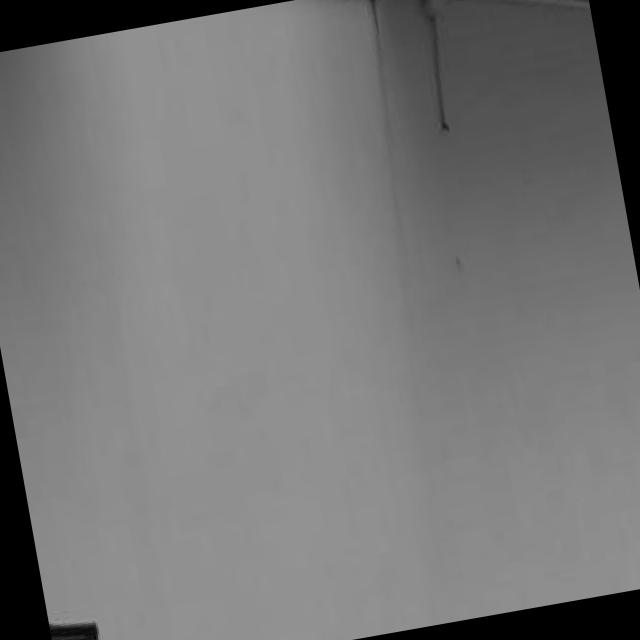Guns: (45, 595, 118, 640)
